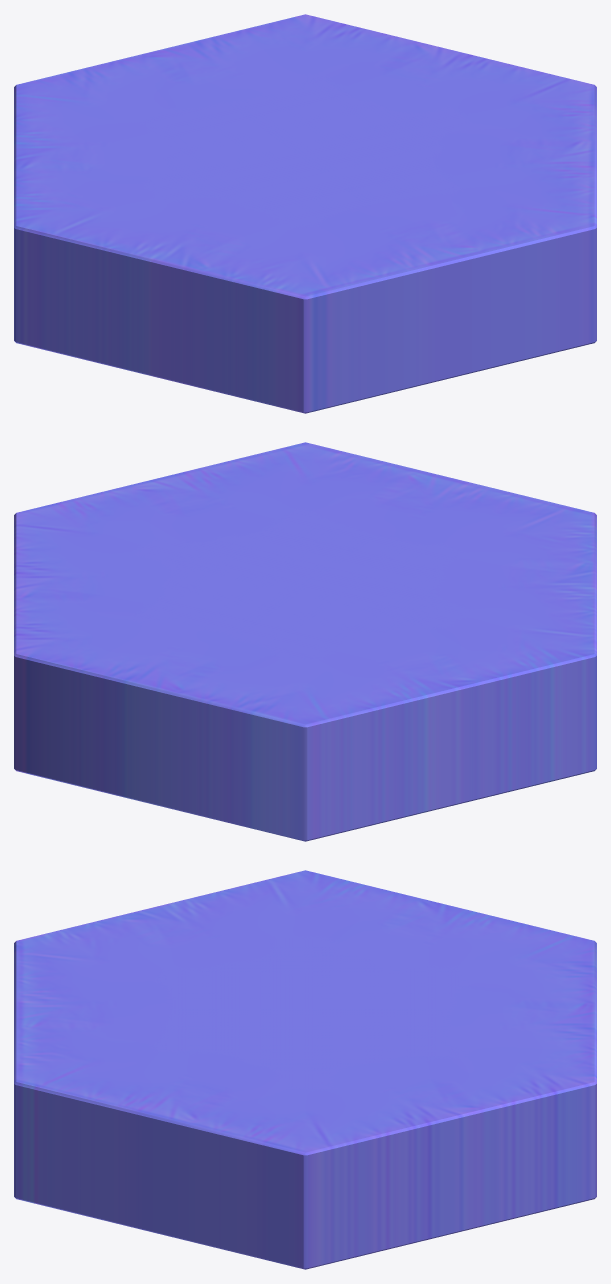
File: stage_start.FBX
3 views of the same model, one above another, from view 1: azimuth 30°, elevation 25°; view 2: azimuth 150°, elevation 25°; view 3: azimuth 270°, elevation 25° (orthographic).
Parts seen in each view (by area): view 1: Cylinder003; view 2: Cylinder003; view 3: Cylinder003.
Part boxes in pixels (box(x1,y1,x2,y2)): Cylinder003: box(14, 14, 596, 413); Cylinder003: box(14, 442, 596, 841); Cylinder003: box(14, 870, 596, 1269).
Size of the model in its own units: 68.14 by 13.12 by 59.21.
